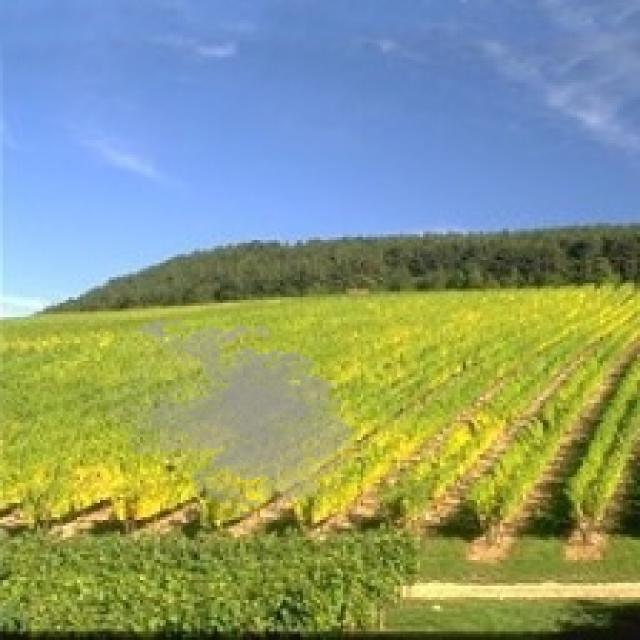Smoke: (97, 312, 369, 522)
